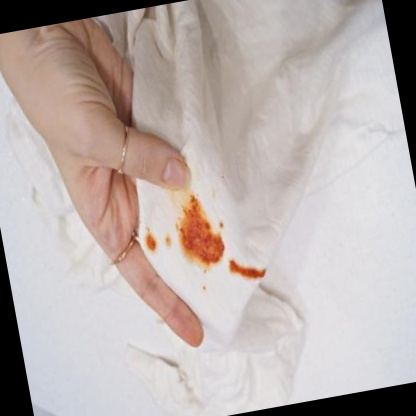kimchi: (173, 199, 228, 270), (223, 256, 268, 289), (139, 229, 162, 254), (161, 234, 174, 250), (217, 175, 229, 186), (219, 220, 229, 233), (198, 266, 209, 277), (200, 290, 207, 296)
